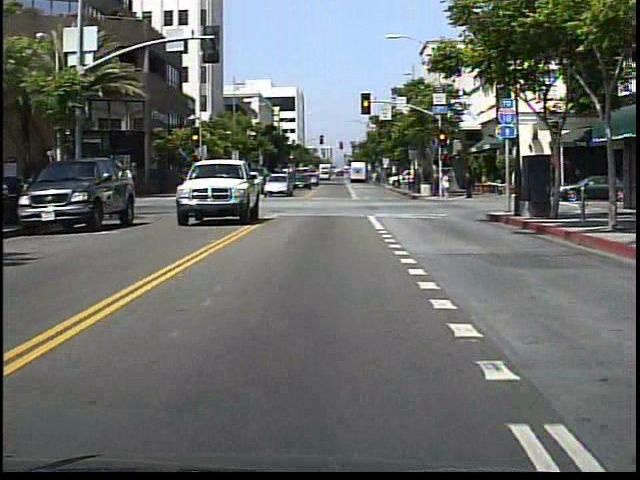person: (120, 163, 151, 191), (461, 171, 476, 203), (184, 172, 197, 198), (442, 173, 452, 199)
